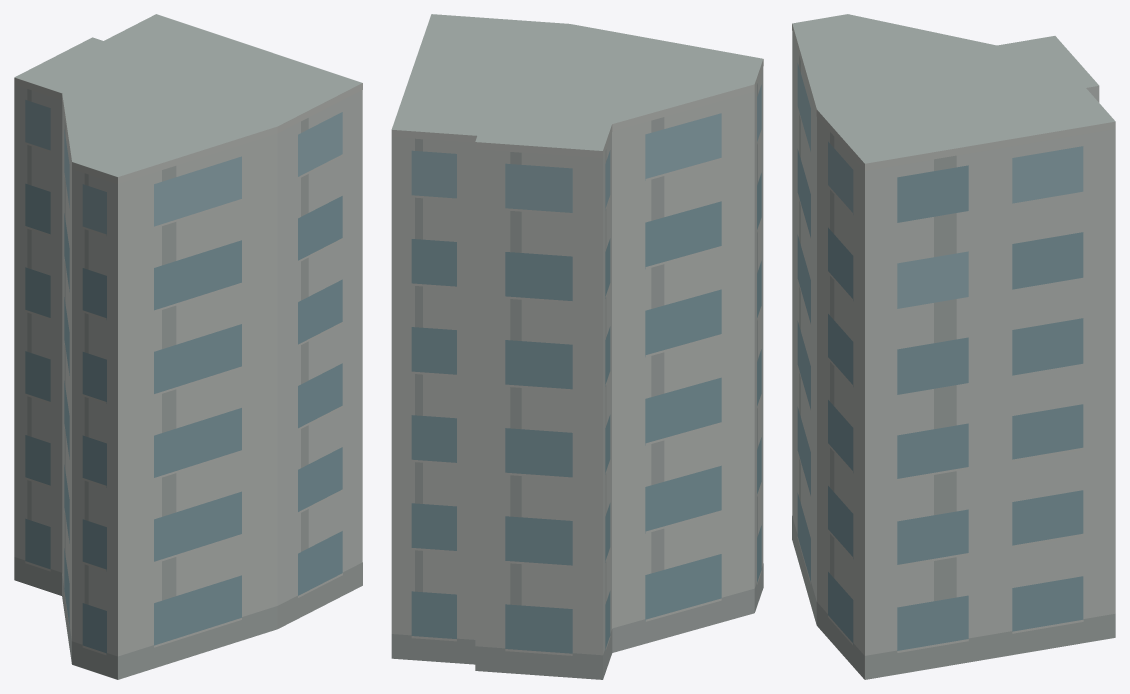
The model's file is survey-upis-32703880.glb.
3 views of the same model, side by side, from view 1: azimuth 30°, elevation 25°; view 2: azimuth 150°, elevation 25°; view 3: azimuth 270°, elevation 25° (orthographic). The views are drawn at different scales.
Parts seen in each view (by area): view 1: survey-upis-32703880.tmp; view 2: survey-upis-32703880.tmp; view 3: survey-upis-32703880.tmp.
Boxes of the visible parts, x1,y1,x2,y2 form: survey-upis-32703880.tmp: [14, 14, 362, 679]; survey-upis-32703880.tmp: [391, 14, 763, 679]; survey-upis-32703880.tmp: [792, 14, 1115, 679].
Bounding box in the file's own units: 10.9 × 17.5 × 9.95.
